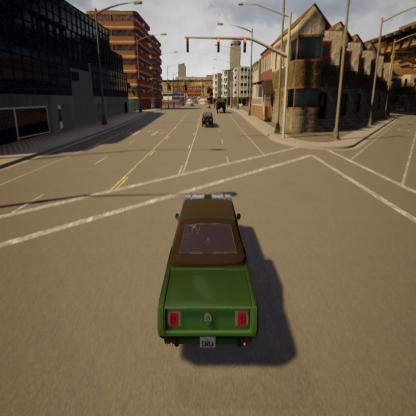Cars: (142, 168, 265, 359), (201, 108, 214, 132), (214, 98, 228, 112)
